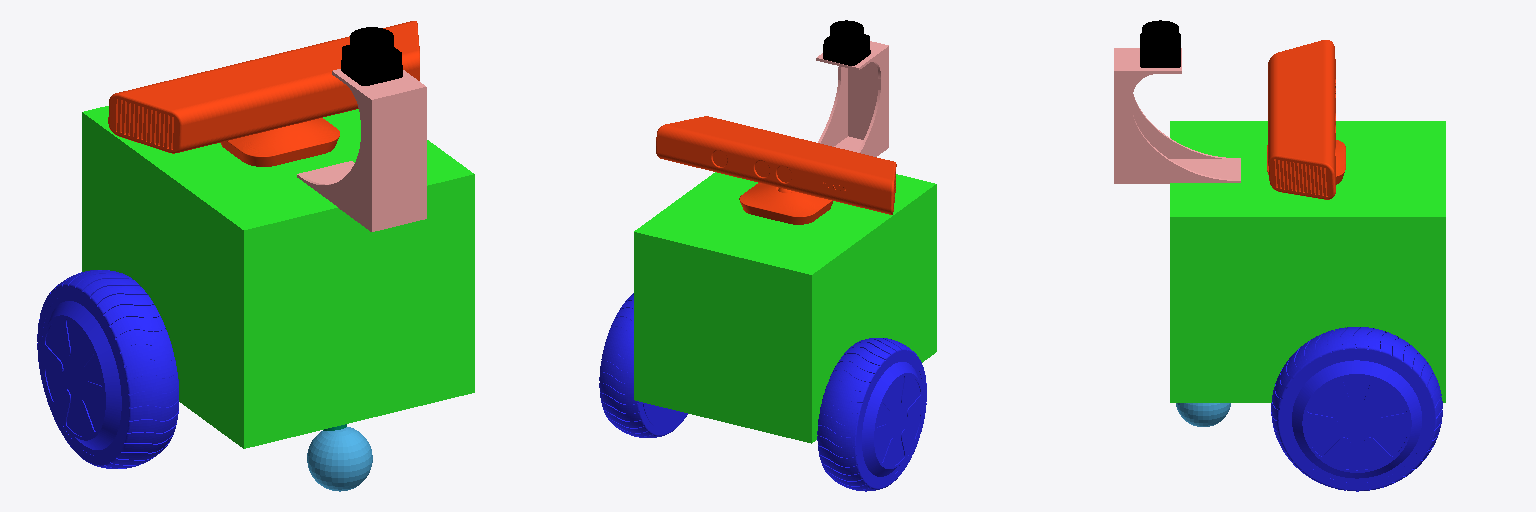
URDF robot description (travel_bot):
<?xml version="1.0"?>
<robot name="travel_bot">
    <!--to include other files-->
    <!--xacro:include filename="my_materials.xacro"/-->

    <link name="world_link"/>

 <!--.............................................................caster_link...................................................................-->

    <link name="sphere_link">
        <visual>
        <origin xyz="0.0 0.0 0.0" rpy="0.0 0.0 0.0"/>
        <geometry>
            <sphere radius="0.026"/>
        </geometry>   
        </visual>
        <collision>
        <origin xyz="0.0 0.0 0.0" rpy="0.0 0.0 0.0"/>
        <geometry>
            <sphere radius="0.026"/>
        </geometry> 
        </collision>
        <inertial>
            <origin xyz="0.0 0.0 0.0" rpy="0.0 0.0 0.0"/>
            <mass value="0.002"/>
            <inertia ixx="0.0000015417" ixy="0.0" ixz="0.0" iyy="0.0000015417" iyz="0.0" izz="0.0000004"/>
            <!--I added 1x zero to all inertia calculations to get gazebo view of enertia looking write? all sceuars?-->
        </inertial>
        <!--gazebo reference="sphere_link">  gazebo tags outside links, posibly in one gazebo tag
          <material>Gazebo/Blue</material>
        </gazebo-->

    </link>

     <joint name="sphere_joint" type="fixed">
        <parent link="caster_link"/>
        <child link="sphere_link"/>
        <origin xyz="0.0 -0.008 -0.02" rpy="0.0 0.0 0.0"/>
    </joint>   

    <link name="caster_link">
        <visual>
            <origin xyz="0.0 0.0 0.0" rpy="0.0 0.0 0.0"/>
            <geometry>
                <cylinder radius="0.0095" length="0.055"/>
            </geometry>
        </visual>
        <collision>
             <origin xyz="0.0 0.0 0.0" rpy="0.0 0.0 0.0"/>
            <geometry>
                <cylinder radius="0.0095" length="0.055"/>
            </geometry>    
        </collision>
        <inertial>
            <origin xyz="0.0 0.0 0.0" rpy="0.0 0.0 0.0"/>
            <mass value="0.002"/>
            <inertia ixx="0.0000015417" ixy="0.0" ixz="0.0" iyy="0.0000015417" iyz="0.0" izz="0.0000004"/>
        </inertial>

        <gazebo reference="caster_link">
          <material>Gazebo/Blue</material>
        </gazebo>
        
    </link>
   
    <joint name="caster_joint" type="continuous">
        <parent link="base_link"/>
        <child link="caster_link"/>
        <axis xyz="0 0 1"/>
        <origin xyz="0.0 -0.089 0.045" rpy="0 0 0"/>
    </joint>
    
<!--................................................................end caster................................................................-->
<!-->.................................................................base_link.................................................................-->
    <link name="base_link">
        <visual>
            <origin xyz="0.0 0.0 0.165" rpy="0.0 0.0 0.0"/>
            <geometry>
                <box size="0.21 0.255 0.19"/>
            </geometry>
            <material name="green">
                <color rgba="0.2 1 0.2 1"/>
            </material>
        </visual>
        <collision>
            <origin xyz="0.0 0.0 0.165" rpy="0.0 0.0 0.0"/>
            <geometry>
                <box size="0.21 0.255 0.19"/>
            </geometry>
        </collision>
        <inertial>
            <origin xyz="0.0 -0.025 0.165" rpy="0.0 0.0 0.0"/>
            <mass value="1.5"/>
            <inertia ixx="0.012640625" ixy="0.0" ixz="0.0" iyy="0.009090113" iyz="0.0" izz="0.00668066"/>  <!--still have to work these out online, box of 1.5kg + dimentions-->
        </inertial>

              <!--gazebo colours moved outside of link-->
        
    </link>

    <gazebo reference="base_link">
        <material>Gazebo/GreenTransparent</material>
    </gazebo>

    <joint name="base_joint" type="fixed">
        <parent link="world_link"/>
        <child link="base_link"/>
        <origin xyz="1.5 1.0 0.0" rpy="0.0 0.0 0.0"/>
    </joint>

 <!--................................................................................end base_link..............................................................-->
 <!--................................................................................right_wheel_link........................................................-->   

    <link name="right_wheel_link">
        <visual>
            <origin xyz="0.0 0.0 0.0" rpy="0.0 0.0 0.0"/>
            <geometry>
            <!--when using path to mesh file it must be in package and path should start with package://-->
                <mesh filename="package://travel_bot_description/meshes/Hoverboard_Wheel_6_in.stl" scale="0.001 0.001 0.001"/>
            <!--using auto fill mesh block> it gives only variable in scale but three reqiured x,y,x -->
            </geometry>
            <material name="blue">
                <color rgba="0.2 0.2 1 1"/>
            </material>
        </visual>

        <collision>
            <origin xyz="0.03 0.0 0.0" rpy="0.0 -1.5708 0.0"/>
            <geometry>
                <cylinder radius="0.08" length="0.045"/>
            </geometry>
        </collision>

        <inertial>
            <origin xyz="0.03 0.0 0.0" rpy="0.0 -1.5708 0.0"/>
            <mass value="2.0"/>
            <inertia ixx="0.00305" ixy="0.0" ixz="0.0" iyy="0.00305" iyz="0.0" izz="0.0049"/>  
            <!--still have to work these out online, cylinder of 2kg + dimentions-->
        </inertial>
        
        <gazebo reference="right_wheel_link">
          <material>Gazebo/Blue</material>
        </gazebo>

    </link>

        <link name="left_wheel_link">
        <visual>
            <origin xyz="-0.0 0.0 0.0" rpy="0.0 0.0 0.0"/>
            <geometry>
            <!--filename says path to file but filename works as long as in meshes folder under package folder-->
                <!--mesh filename="Hoverboard_Wheel_6_in.stl" scale="0.001 0.001 0.001"/--><!--no it doesn,t-->
                <mesh filename="package://travel_bot_description/meshes/Hoverboard_Wheel_6_in.stl" scale="0.001 0.001 0.001"/>
            </geometry>
            <material name="blue">
                <color rgba="0.2 0.2 1 1"/>
            </material>
        </visual>
        <collision>
            <origin xyz="0.03 0.0 0.0" rpy="0.0 1.5708 0.0"/>
            <geometry>
                <cylinder radius="0.08" length="0.045"/>
            </geometry>    
        </collision>

        <inertial>
            <origin xyz="0.03 0.0 0.0" rpy="0.0 1.5708 0.0"/>
            <mass value="2.0"/>
            <inertia ixx="0.00305" ixy="0.0" ixz="0.0" iyy="0.00305" iyz="0.0" izz="0.0049"/>  
            <!--still have to work these out online, cylinder of 2kg + dimentions-->
        </inertial>

        <gazebo reference="left_wheel_link">
          <material>Gazebo/Blue</material>
        </gazebo>

    </link>

<!--............................................................................................depth_cam_link.......................................................................-->

    <link name="depthCam_link">
        <visual>
            <origin xyz="0.0 0.0 0.0" rpy="0.0 0.0 0.0"/>
             <!--origin xyz="1.49 1.0 0.27" rpy="0.0 0.0 0.0"/-->
            <geometry>
            <!--filename says path to file but filename works as long as in meshes folder under package folder-->
                <!--mesh filename="Hoverboard_Wheel_6_in.stl" scale="0.001 0.001 0.001"/--><!--no it doesn,t-->
                <mesh filename="package://travel_bot_description/meshes/Kinect.stl" scale="0.001 0.001 0.001"/>
            </geometry>
            <material name="orange">
                <color rgba="1 0.3 0.1 1"/>
            </material>
        </visual>
        <collision>
            <origin xyz="-0.01 0.0 0.04" rpy="0.0 0.0 1.5708"/>
            <geometry>
            <!--filename says path to file but filename works as long as in meshes folder under package folder-->
                <!--mesh filename="Hoverboard_Wheel_6_in.stl" scale="0.001 0.001 0.001"/--><!--no it doesn,t-->
                <!--mesh filename="package://travel_bot_description/meshes/Kinect.stl" scale="0.001 0.001 0.001"/-->
                <box size="0.055 0.26 0.03"/>
            </geometry>
        </collision>

        <inertial>
            <origin xyz="0.0 0.0 0.0" rpy="0.0 0.0 0.0"/>
            <mass value="0.1"/>
            <inertia ixx="0.000374017" ixy="0.0" ixz="0.0" iyy="0.000374017" iyz="0.0" izz="0.000081634"/>  <!--still have to work these out online, cylinder of 2kg + dimentions-->
        </inertial>

        <gazebo reference="depthCam_link">
          <material>Gazebo/Blue</material>
        </gazebo>

    </link>

    <gazebo reference="depthCam_link">  
    <sensor type="depth" name="camera">
      <always_on>true</always_on>
      <update_rate>30.0</update_rate>
      <camera>
        <horizontal_fov>1.0471975512</horizontal_fov>
        <image>
          <format>B8G8R8</format>
          <width>640</width>
          <height>480</height>
        </image>
        <clip>
          <near>0.05</near>
          <far>8.0</far>
        </clip>
      </camera>
      <plugin name="kinect_camera_controller" filename="libgazebo_ros_openni_kinect.so">
        <cameraName>camera</cameraName>
        <alwaysOn>true</alwaysOn>
        <updateRate>0.10</updateRate>
        <imageTopicName>rgb/image_raw</imageTopicName>
        <depthImageTopicName>depth/image_raw</depthImageTopicName>
        <pointCloudTopicName>depth/points</pointCloudTopicName>
        <cameraInfoTopicName>rgb/camera_info</cameraInfoTopicName>
        <depthImageCameraInfoTopicName>depth/camera_info</depthImageCameraInfoTopicName>
        <frameName>camera_frame</frameName>
        <baseline>0.1</baseline>
        <distortion_k1>0.0</distortion_k1>
        <distortion_k2>0.0</distortion_k2>
        <distortion_k3>0.0</distortion_k3>
        <distortion_t1>0.0</distortion_t1>
        <distortion_t2>0.0</distortion_t2>
        <pointCloudCutoff>0.4</pointCloudCutoff>
      </plugin>
    </sensor>
  </gazebo>

    <joint name="depthCam_joint" type="fixed">
        <parent link="base_link"/>
        <child link="depthCam_link"/>
        <origin xyz="-0.008 0.0 0.27" rpy="0.0 0.0 3.14159"/>
    </joint>
<!--......................................lidar_link........................................................................................-->
    <link name="lidar_link">
        <visual>
            <origin xyz="0.0 0.0 0.0" rpy="1.5708 0.0 0.0"/>
            <geometry>
            <!--filename says path to file but filename works as long as in meshes folder under package folder-->
                <!--mesh filename="Hoverboard_Wheel_6_in.stl" scale="0.001 0.001 0.001"/--><!--no it doesn,t-->
                <mesh filename="package://travel_bot_description/meshes/LD06_LiDAR.stl" scale="0.001 0.001 0.001"/>
            </geometry>
            <material name="black">
                <color rgba="0 0 0 1"/>
            </material>
        </visual>
        <collision>
            <origin xyz="0.017 -0.028 0.02" rpy="0.0 0.0 0.0"/>
            <geometry>
            <!--filename says path to file but filename works as long as in meshes folder under package folder-->
                <!--mesh filename="Hoverboard_Wheel_6_in.stl" scale="0.001 0.001 0.001"/--><!--no it doesn,t-->
                <!--mesh filename="package://travel_bot_description/meshes/LD06_LiDAR.stl" scale="0.001 0.001 0.001"/-->
                <cylinder radius="0.02" length="0.032"/>
            </geometry>
        </collision>

        <inertial>
            <origin xyz="0.0 0.0 0.0" rpy="0.0 0.0 0.0"/>
            <mass value="0.002"/>
            <inertia ixx="0.000015417" ixy="0.0" ixz="0.0" iyy="0.000015417" iyz="0.0" izz="0.000004"/>  
        </inertial>

    </link>

    <joint name="lidar_joint" type="fixed">
        <parent link="lidarBracket_link"/>
        <child link="lidar_link"/>
        <origin xyz="-0.016 0.072 0.123" rpy="0.0 0.0 0.0"/>
    </joint>

<!--gazebo tags ourside of link tags for collour ? maybe everthing gazebo?-->
    <gazebo reference="lidar_link">
        <material>Gazebo/Blue</material>
        <sensor name="laser" type="ray">
            <pose>0 0 0 0 0 0</pose>
            <visualize>true</visualize>
            <update_rate>10</update_rate>
            <ray>
               <scan>
                   <horizontal>
                       <samples>400</samples>
                       <resolution>1</resolution>
                       <min_angle>-3.14</min_angle>
                       <max_angle>3.14</max_angle>
                    </horizontal>
                </scan>
                <range>
                    <min>0.02</min>
                    <max>12</max>
                    <resolution>0.01</resolution>
                </range>
            </ray>
            <plugin name="laser_controler" filename="libgazebo_ros_ray_sensor.so">
                <output_type>sensor_msgs/LaserScan</output_type>
                <frame_name>lidar_link</frame_name>
            </plugin>
        </sensor>
    </gazebo>

 <!--......................................................................end lidar_link............................................................-->   

    <link name="lidarBracket_link">
        <visual>
            <origin xyz="0.0 0.0 0.07" rpy="0.0 0.0 0.0"/>
            
            <geometry>
            <!--filename says path to file but filename works as long as in meshes folder under package folder-->
                <!--mesh filename="Hoverboard_Wheel_6_in.stl" scale="0.001 0.001 0.001"/--><!--no it doesn,t-->
                <mesh filename="package://travel_bot_description/meshes/lidarMount.stl" scale="0.001 0.001 0.001"/>
            </geometry>
            <material name="pink">
                <color rgba="1 0.7 0.7 1"/>
            </material>
        </visual>
        <!--collision>
            <origin xyz="0.5 0.0 0.0" rpy="0.0 0.0 0.0"/>
            <cylinder radius="0.085" length="0.06"/>
        </collision-->

        <inertial>
            <origin xyz="0.0 0.0 0.0" rpy="0.0 0.0 0.0"/>
            <mass value="0.001"/>
            <inertia ixx="0.0" ixy="0.0" ixz="0.0" iyy="0.0" iyz="0.0" izz="0.0"/>  <!--still have to work these out online, cylinder of 2kg + dimentions-->
        </inertial>

        <gazebo reference="lidarBracket_link">
          <material>Gazebo/Blue</material>
        </gazebo>

    </link>



    <joint name="lidarBracket_joint" type="fixed">
        <parent link="base_link"/>
        <child link="lidarBracket_link"/>
        <origin xyz="0.006 -0.18 0.247" rpy="0.0 0.0 0.0"/>
    </joint>


    
    <joint name="right_wheel_joint" type="continuous">
        <parent link="base_link"/>
        <child link="right_wheel_link"/>
        <axis xyz="-1 0 0"/>   <!--removing this tag changes nothing? maybe its in wrong posision/works fine, origin was wrong-->
        <origin xyz="0.1 0.045 0.075" rpy="0 0 0"/>
    </joint>

    <joint name="left_wheel_joint" type="continuous">
        <parent link="base_link"/>
        <child link="left_wheel_link"/>
        <axis xyz="1 0 0"/>
        <origin xyz="-0.1 0.045 0.075" rpy="0.0 3.14159 0.0"/>
    </joint>
    

</robot>

--- Facts derived from the render (not from the file) ---
The picture shows the robot from 3 angles, left to right: view 1: azimuth 30°, elevation 25°; view 2: azimuth 150°, elevation 25°; view 3: azimuth 270°, elevation 25°; orthographic projection.
Model travel_bot with 9 links and 8 joints (3 continuous, 5 fixed), rooted at world_link, posed all joints at 0.
Links seen in each view (by area): view 1: base_link, left_wheel_link, depthCam_link, lidarBracket_link, sphere_link, lidar_link; view 2: base_link, depthCam_link, left_wheel_link, lidarBracket_link, right_wheel_link, lidar_link; view 3: base_link, right_wheel_link, depthCam_link, lidarBracket_link, lidar_link, sphere_link.
Link boxes in pixels (x1,y1,x2,y2): base_link: (82,106,474,448); left_wheel_link: (37,270,178,468); depthCam_link: (108,21,419,166); lidarBracket_link: (297,69,426,231); sphere_link: (307,427,372,491); lidar_link: (341,27,402,85); base_link: (634,172,936,443); depthCam_link: (656,116,896,224); left_wheel_link: (817,338,926,491); lidarBracket_link: (816,41,888,156); right_wheel_link: (599,293,687,437); lidar_link: (823,20,870,65); base_link: (1170,121,1445,402); right_wheel_link: (1271,327,1442,491); depthCam_link: (1267,40,1345,199); lidarBracket_link: (1114,48,1240,183); lidar_link: (1140,20,1180,67); sphere_link: (1176,403,1230,426).
Size in the robot's own frame: 0.32 by 0.3075 by 0.4111 metres.
5 mesh visuals loaded from 4 distinct referenced files (4 binary STL).
